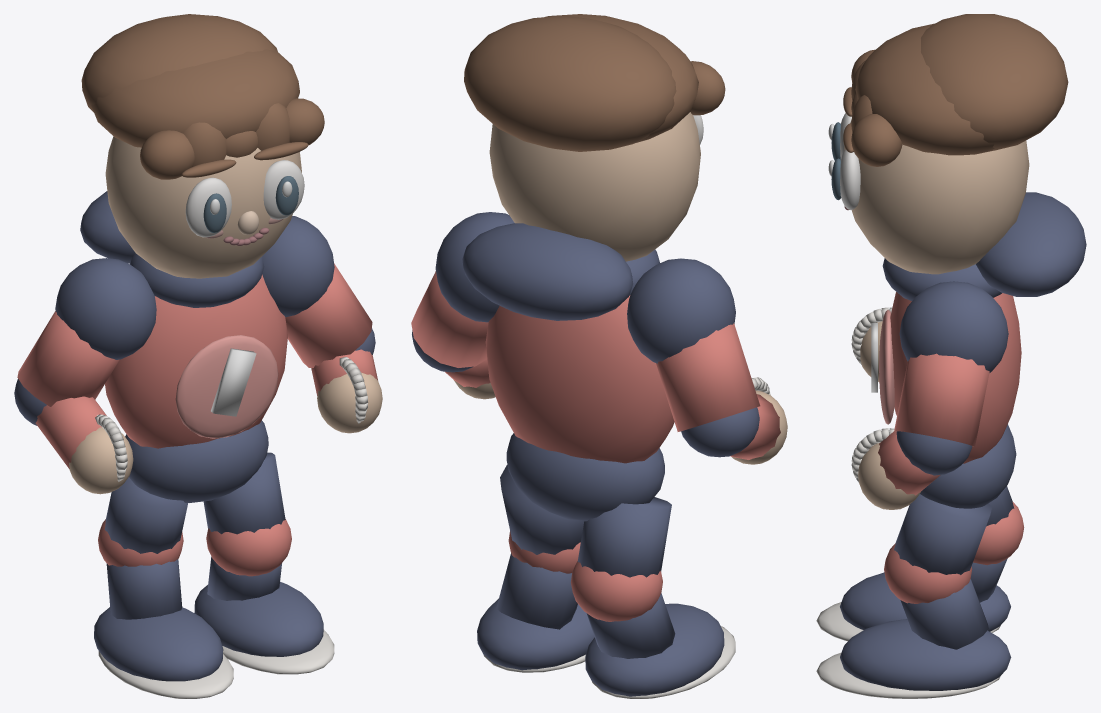
The model's file is 00_runner.glb.
3 views of the same model, side by side, from view 1: azimuth 30°, elevation 25°; view 2: azimuth 150°, elevation 25°; view 3: azimuth 270°, elevation 25° (orthographic). The views are drawn at different scales.
Parts seen in each view (by area): view 1: 00_runner_face_025, 00_runner_outfit-torso_001, 00_runner_hair-cap_044, 00_runner_styled-hair_051, 00_runner_pauldron_009, 00_runner_oversized-boot_018, 00_runner_shorts_002, 00_runner_oversized-boot_023, 00_runner_chest-piece_004, 00_runner_upper-arm_005, 00_runner_pauldron_014, 00_runner_upper-arm_010 (+27 smaller); view 2: 00_runner_styled-hair_051, 00_runner_outfit-torso_001, 00_runner_face_025, 00_runner_hood_108, 00_runner_shorts_002, 00_runner_pauldron_009, 00_runner_upper-arm_005, 00_runner_oversized-boot_018, 00_runner_upper-leg_015, 00_runner_oversized-boot_023, 00_runner_upper-arm_010, 00_runner_lower-leg_022 (+12 smaller); view 3: 00_runner_face_025, 00_runner_styled-hair_051, 00_runner_hair-cap_044, 00_runner_oversized-boot_023, 00_runner_hood_108, 00_runner_pauldron_014, 00_runner_upper-arm_010, 00_runner_upper-leg_020, 00_runner_outfit-torso_001, 00_runner_shorts_002, 00_runner_lower-leg_022, 00_runner_oversized-boot_018 (+15 smaller).
Boxes of the visible parts, bbox=[...] form: 00_runner_face_025: bbox=[105, 136, 301, 278]; 00_runner_outfit-torso_001: bbox=[105, 274, 287, 448]; 00_runner_hair-cap_044: bbox=[91, 49, 299, 147]; 00_runner_styled-hair_051: bbox=[81, 14, 277, 112]; 00_runner_pauldron_009: bbox=[55, 258, 156, 359]; 00_runner_oversized-boot_018: bbox=[94, 607, 223, 681]; 00_runner_shorts_002: bbox=[125, 420, 268, 502]; 00_runner_oversized-boot_023: bbox=[194, 581, 323, 656]; 00_runner_chest-piece_004: bbox=[175, 335, 278, 438]; 00_runner_upper-arm_005: bbox=[17, 311, 119, 406]; 00_runner_pauldron_014: bbox=[262, 216, 334, 317]; 00_runner_upper-arm_010: bbox=[285, 263, 372, 367]; 00_runner_styled-hair_051: bbox=[464, 15, 676, 151]; 00_runner_outfit-torso_001: bbox=[485, 295, 674, 463]; 00_runner_face_025: bbox=[489, 112, 700, 261]; 00_runner_hood_108: bbox=[462, 223, 633, 320]; 00_runner_shorts_002: bbox=[506, 433, 664, 521]; 00_runner_pauldron_009: bbox=[627, 258, 735, 363]; 00_runner_upper-arm_005: bbox=[656, 323, 760, 431]; 00_runner_oversized-boot_018: bbox=[585, 603, 724, 696]; 00_runner_upper-leg_015: bbox=[577, 497, 671, 577]; 00_runner_oversized-boot_023: bbox=[477, 598, 594, 670]; 00_runner_upper-arm_010: bbox=[411, 271, 488, 367]; 00_runner_lower-leg_022: bbox=[496, 553, 577, 629]; 00_runner_face_025: bbox=[844, 120, 1029, 274]; 00_runner_styled-hair_051: bbox=[921, 14, 1068, 150]; 00_runner_hair-cap_044: bbox=[855, 23, 994, 155]; 00_runner_oversized-boot_023: bbox=[840, 619, 1011, 690]; 00_runner_hood_108: bbox=[976, 192, 1086, 296]; 00_runner_pauldron_014: bbox=[899, 281, 1008, 372]; 00_runner_upper-arm_010: bbox=[894, 353, 989, 446]; 00_runner_upper-leg_020: bbox=[894, 494, 991, 574]; 00_runner_outfit-torso_001: bbox=[890, 292, 1021, 463]; 00_runner_shorts_002: bbox=[920, 424, 1016, 508]; 00_runner_lower-leg_022: bbox=[900, 579, 988, 649]; 00_runner_oversized-boot_018: bbox=[840, 572, 1010, 631].
Bounding box in the file's own units: 1.52 × 2.69 × 1.04.
